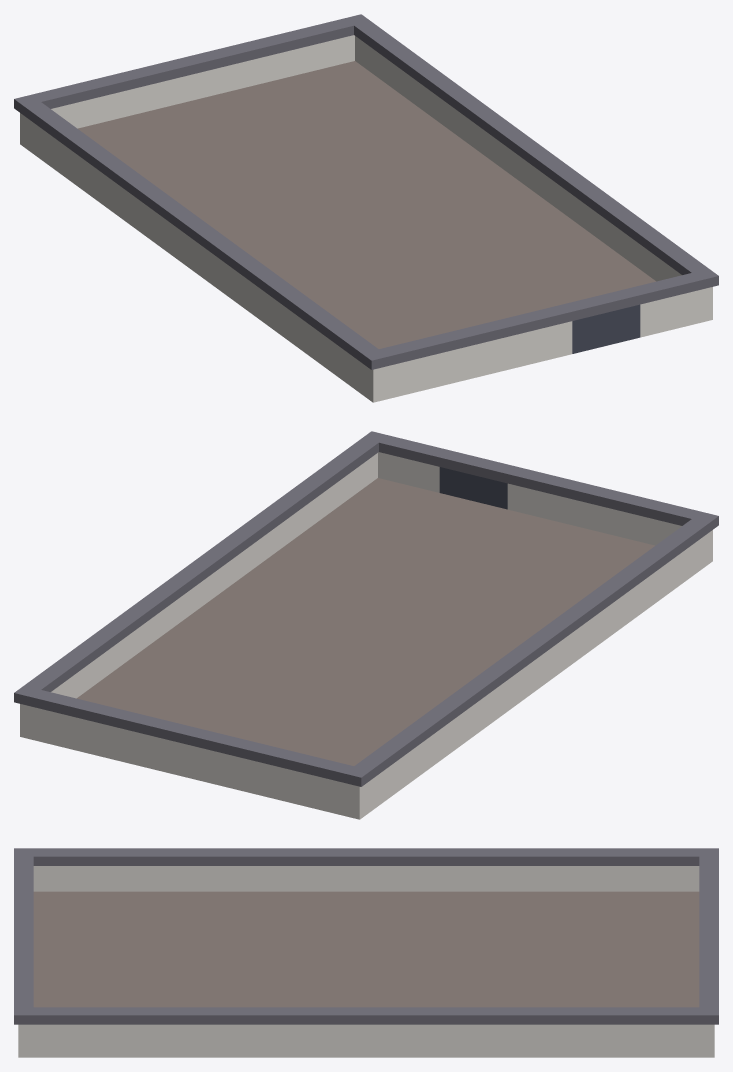
File: SM_Roof_NarrowFlatStrip_White_455_01.gltf
3 views of the same model, one above another, from view 1: azimuth 30°, elevation 25°; view 2: azimuth 150°, elevation 25°; view 3: azimuth 270°, elevation 25° (orthographic).
Parts seen in each view (by area): view 1: SM_Roof_NarrowFlatStrip_White_455_01; view 2: SM_Roof_NarrowFlatStrip_White_455_01; view 3: SM_Roof_NarrowFlatStrip_White_455_01.
Part boxes in pixels (x1,y1,x2,y2): SM_Roof_NarrowFlatStrip_White_455_01: [14, 14, 718, 402]; SM_Roof_NarrowFlatStrip_White_455_01: [14, 431, 718, 819]; SM_Roof_NarrowFlatStrip_White_455_01: [14, 848, 718, 1057].
Size of the model in its own units: 4.65 by 0.57 by 8.29.
Materials: 1 (1 with a texture image).
